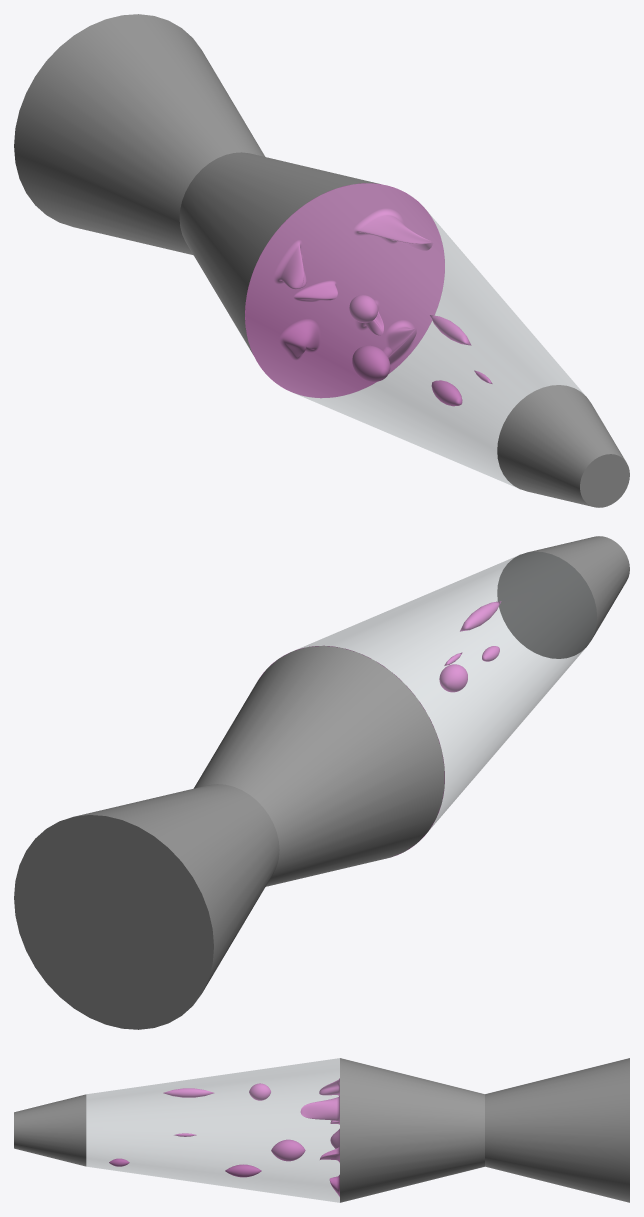
File: lava-lamp.glb
3 views of the same model, one above another, from view 1: azimuth 30°, elevation 25°; view 2: azimuth 150°, elevation 25°; view 3: azimuth 270°, elevation 25° (orthographic). The views are drawn at different scales.
Parts seen in each view (by area): view 1: LavaLamp_aaravv2.prt; view 2: LavaLamp_aaravv2.prt; view 3: LavaLamp_aaravv2.prt.
Part boxes in pixels (bbox=[...]): LavaLamp_aaravv2.prt: bbox=[14, 14, 629, 507]; LavaLamp_aaravv2.prt: bbox=[14, 536, 629, 1029]; LavaLamp_aaravv2.prt: bbox=[14, 1058, 629, 1202].
Size of the model in its own units: 0.1016 by 0.1016 by 0.4318.
